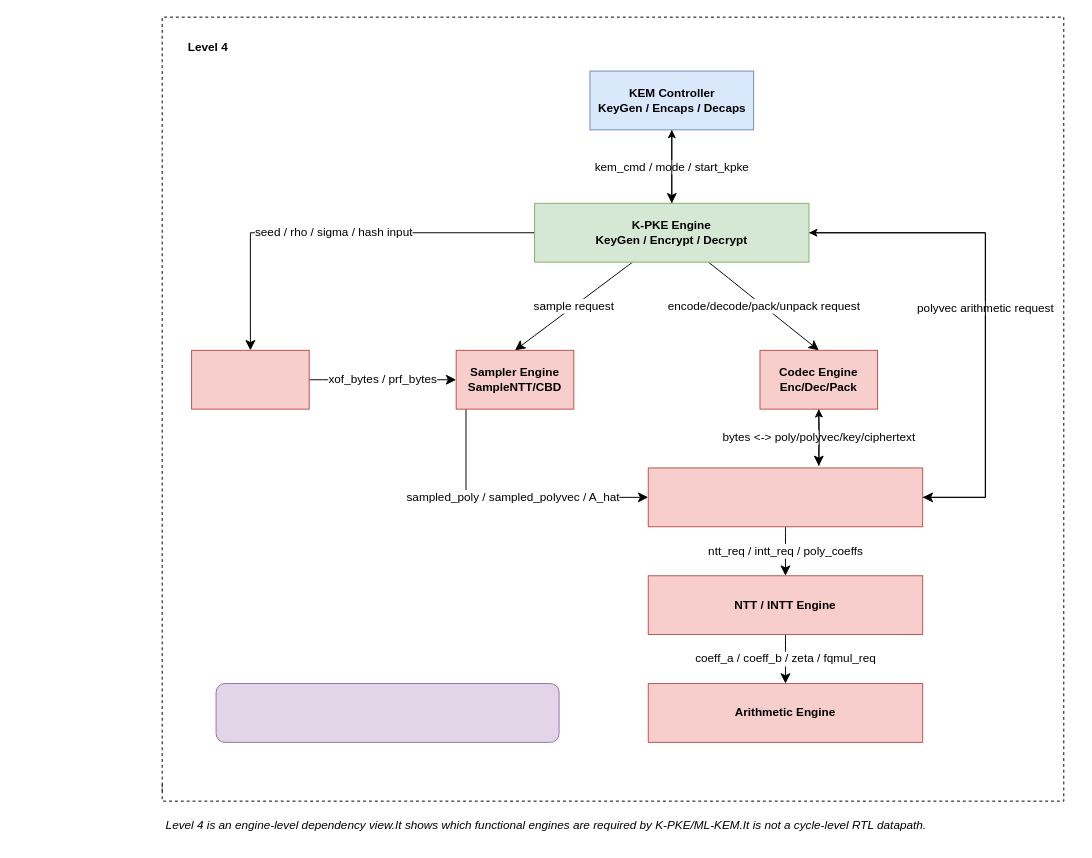
Some shapes in this 1092 by 858 pixel diagram are drawn without their labels. The centre of each missing label's shape, as x and y in pixels:
"Keccak /SHAKE XOF/PRF/H/G/J" belongs at [250,379].
"Polynomial / Polyvec Engine" belongs at [785,497].
"Workspace Memory poly / polyvec / matrix / key / ciphertext / temp" belongs at [387,712].
